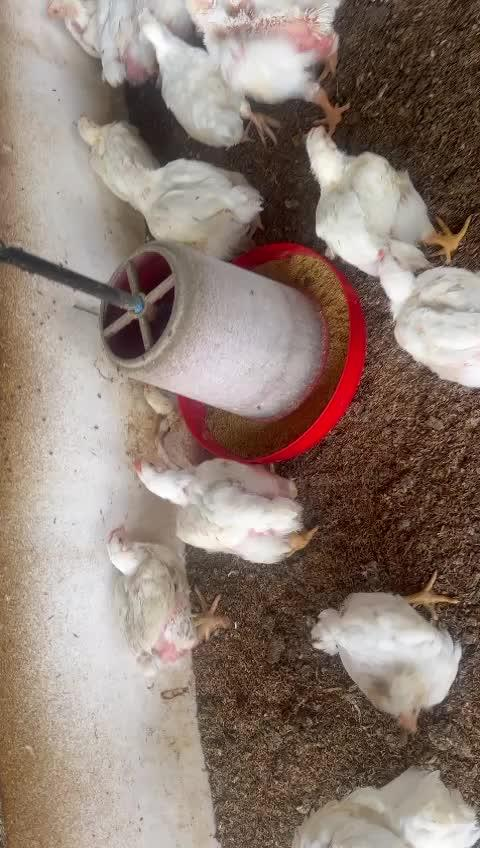Normal: (305, 125, 461, 265), (312, 584, 461, 724), (130, 457, 318, 565), (140, 12, 274, 146), (109, 530, 231, 673), (380, 254, 480, 386), (112, 164, 260, 229), (77, 117, 153, 184)
